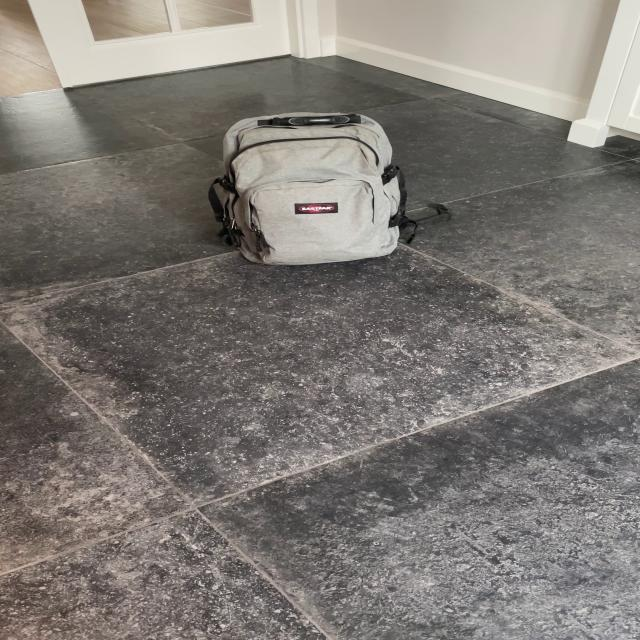backpack: (198, 104, 416, 270)
